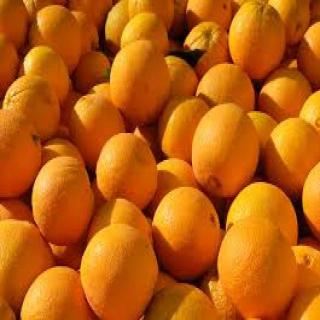orange: (83, 220, 159, 320), (214, 216, 287, 320), (86, 123, 158, 228), (184, 100, 258, 200), (99, 33, 176, 127)
